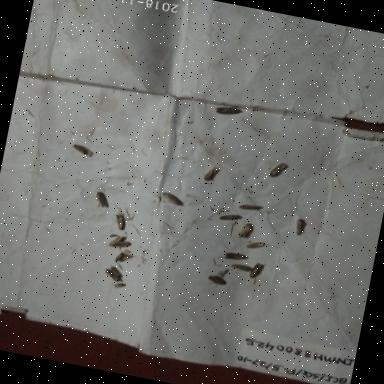pbw: (282, 206, 316, 244), (192, 154, 226, 188), (209, 98, 244, 127), (264, 154, 295, 183), (108, 207, 136, 234), (106, 244, 136, 268), (218, 247, 252, 268), (234, 195, 268, 216), (216, 207, 247, 229), (232, 218, 258, 244), (242, 258, 268, 282), (158, 192, 186, 214), (238, 235, 268, 255), (90, 187, 116, 210), (68, 142, 100, 160), (202, 274, 236, 290), (106, 278, 134, 297), (106, 232, 131, 252), (106, 262, 130, 282), (96, 268, 120, 286), (228, 261, 254, 274)
